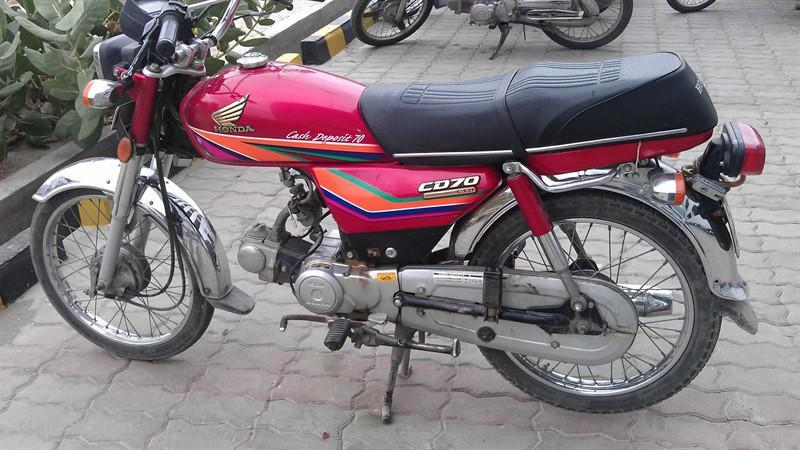bike: (27, 2, 771, 423)
